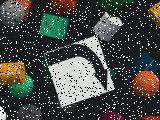Right: (44, 35, 115, 107)
